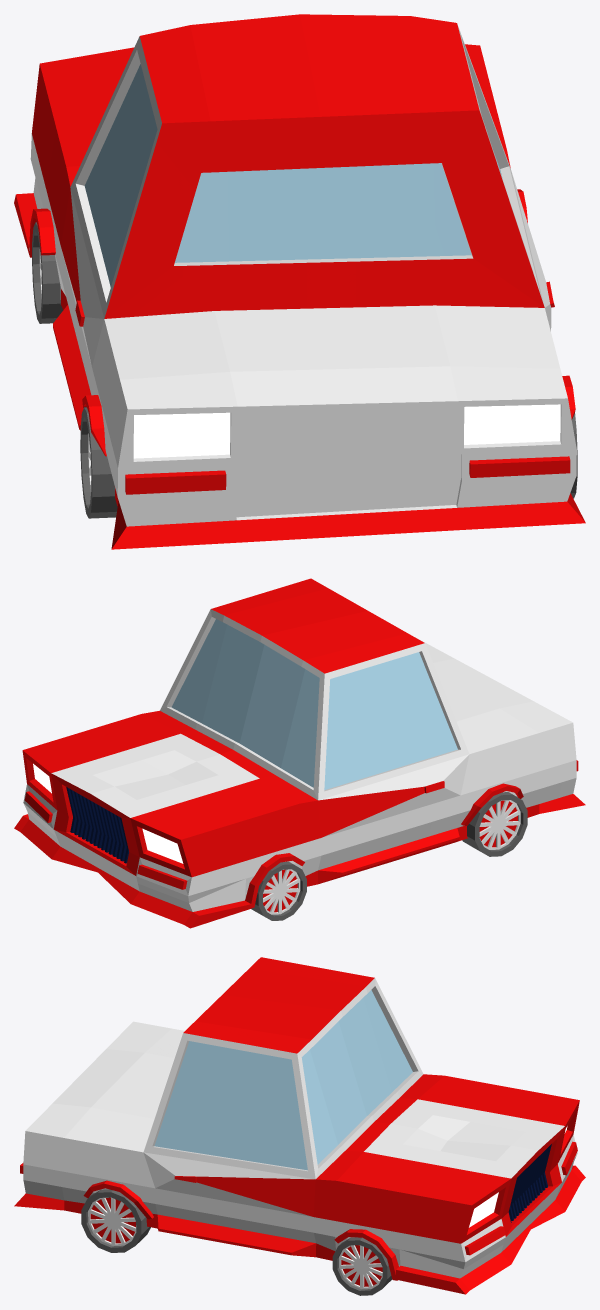
The model's file is normalCar.glb.
The picture shows the model from 3 angles, top to bottom: view 1: azimuth 30°, elevation 25°; view 2: azimuth 150°, elevation 25°; view 3: azimuth 270°, elevation 25°; orthographic projection. The views are drawn at different scales.
Visible parts, largest first — view 1: body, backlight, wheel_1, wheel1_1, rear_fender, front_fender; view 2: body, wheel_1, lattice_1, wheel1_1, headlight, front_fender, rear_fender; view 3: body, wheel_1, wheel1_1, lattice_1, front_fender, rear_fender, headlight.
Part boxes in pixels (left/top/right/bottom): body: left=14, top=14, right=585, bottom=549; backlight: left=133, top=404, right=560, bottom=458; wheel_1: left=80, top=407, right=577, bottom=518; wheel1_1: left=32, top=222, right=63, bottom=323; rear_fender: left=82, top=375, right=575, bottom=456; front_fender: left=29, top=189, right=527, bottom=257; body: left=14, top=578, right=585, bottom=928; wheel_1: left=462, top=792, right=527, bottom=856; lattice_1: left=66, top=787, right=128, bottom=863; wheel1_1: left=251, top=861, right=306, bottom=920; headlight: left=33, top=763, right=183, bottom=863; front_fender: left=245, top=853, right=304, bottom=908; rear_fender: left=461, top=783, right=523, bottom=825; body: left=14, top=957, right=585, bottom=1294; wheel_1: left=81, top=1189, right=150, bottom=1252; wheel1_1: left=332, top=1237, right=392, bottom=1295; lattice_1: left=508, top=1144, right=551, bottom=1222; front_fender: left=334, top=1229, right=398, bottom=1280; rear_fender: left=83, top=1180, right=153, bottom=1219; headlight: left=469, top=1126, right=567, bottom=1227.
Bounding box in the file's own units: 2.16 × 1.11 × 2.64.
